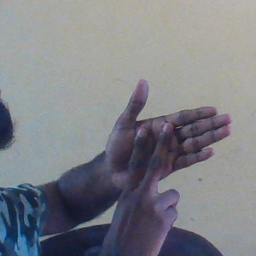N: (96, 74, 239, 242)
